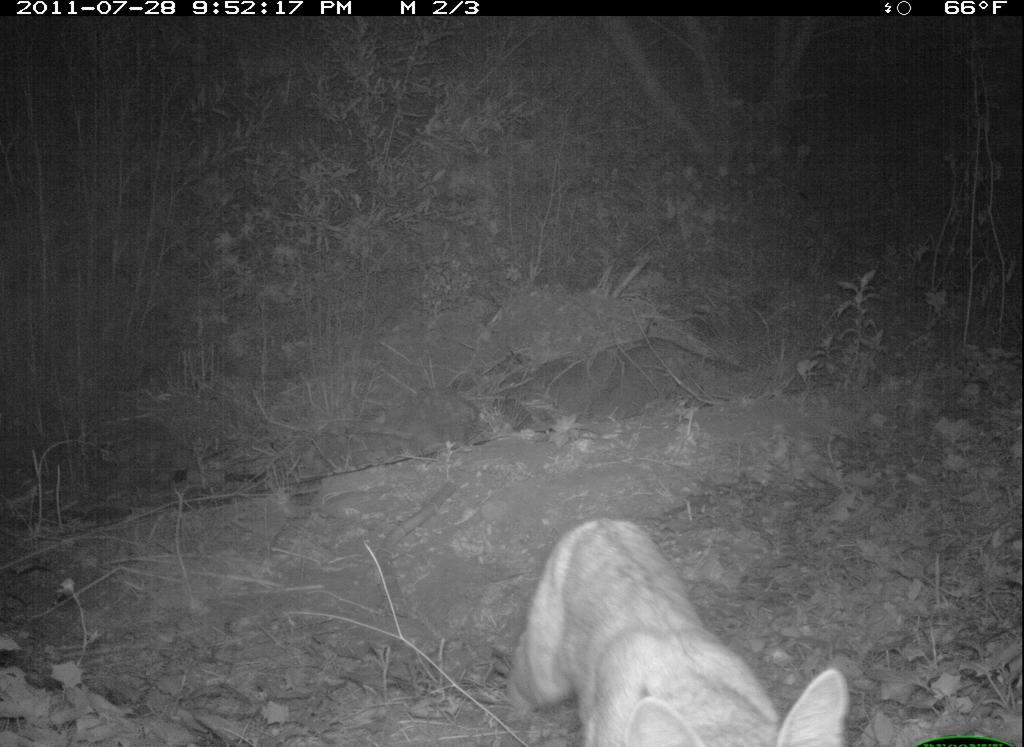bobcat: (524, 486, 850, 747)
